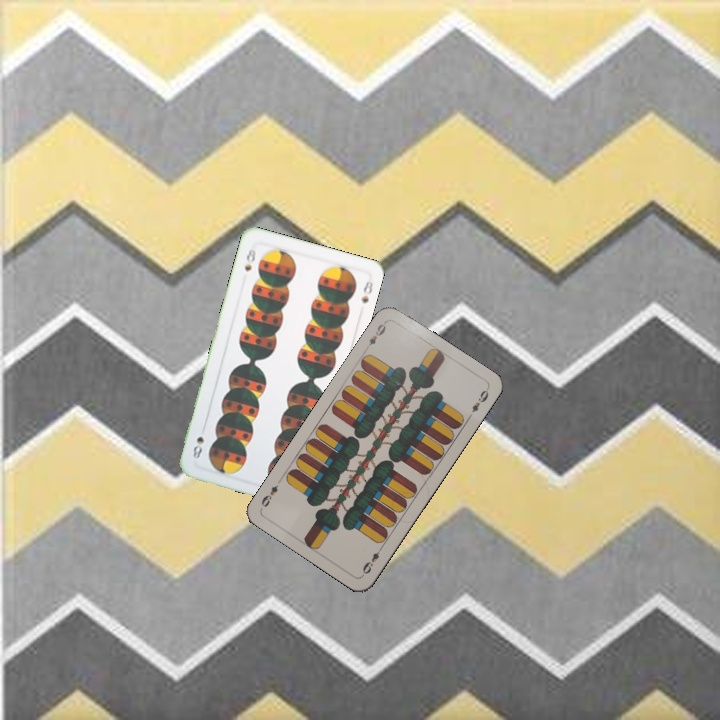E9: (361, 317, 389, 353), (358, 542, 386, 577)
S8: (240, 241, 258, 274)
